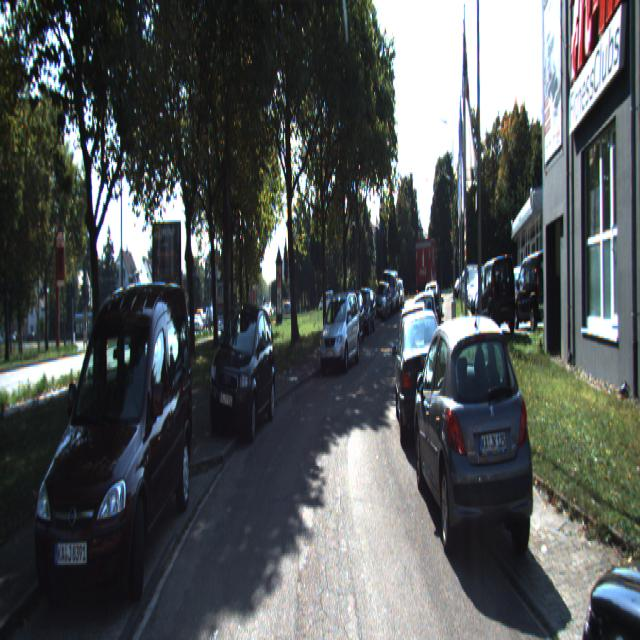Car: (23, 269, 198, 624), (411, 292, 541, 570), (569, 342, 639, 638), (208, 287, 277, 440), (394, 303, 449, 455), (511, 252, 560, 344), (475, 257, 518, 337), (319, 296, 361, 376), (415, 240, 438, 308)
